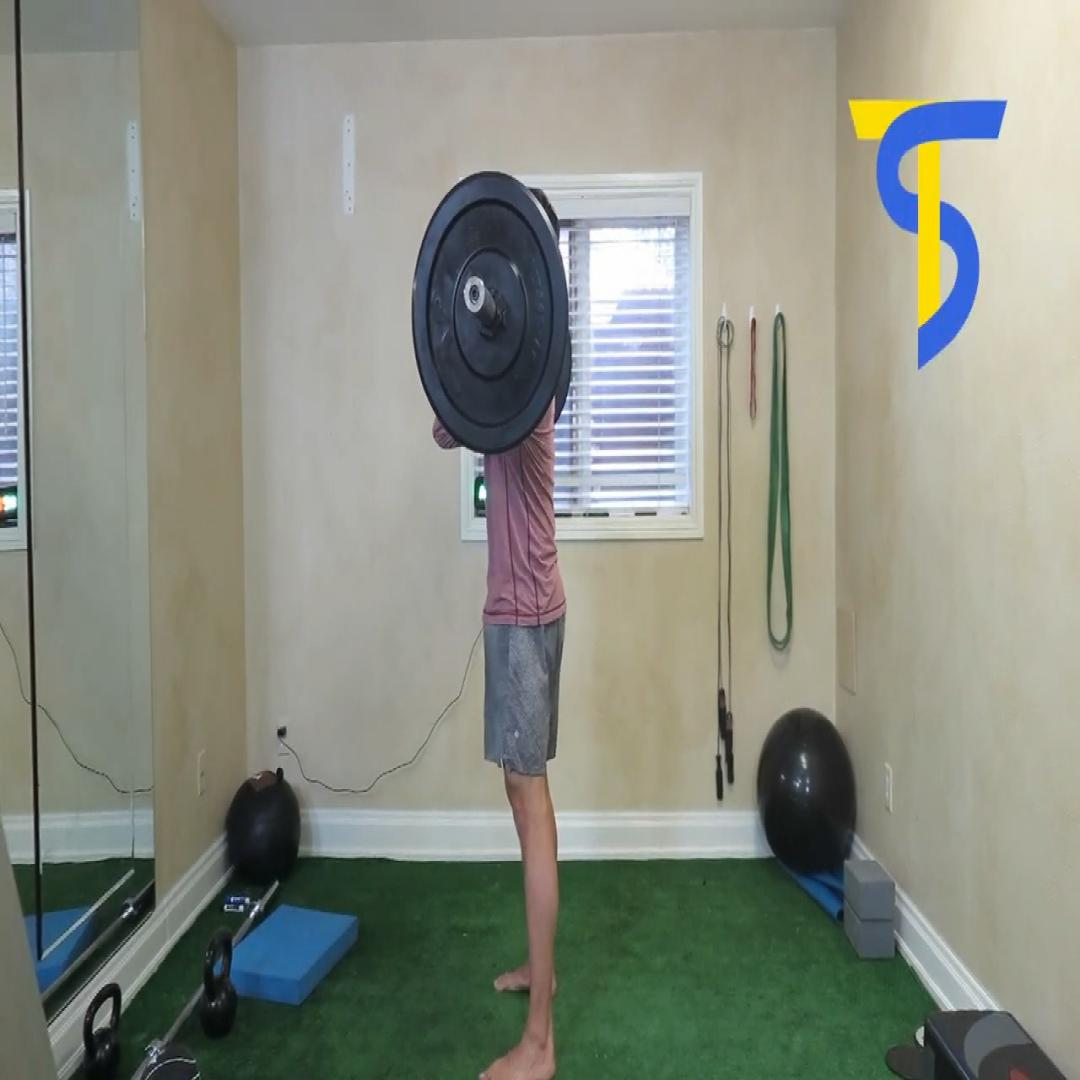Bar: (463, 274, 486, 313)
Barbell: (410, 169, 569, 454)
